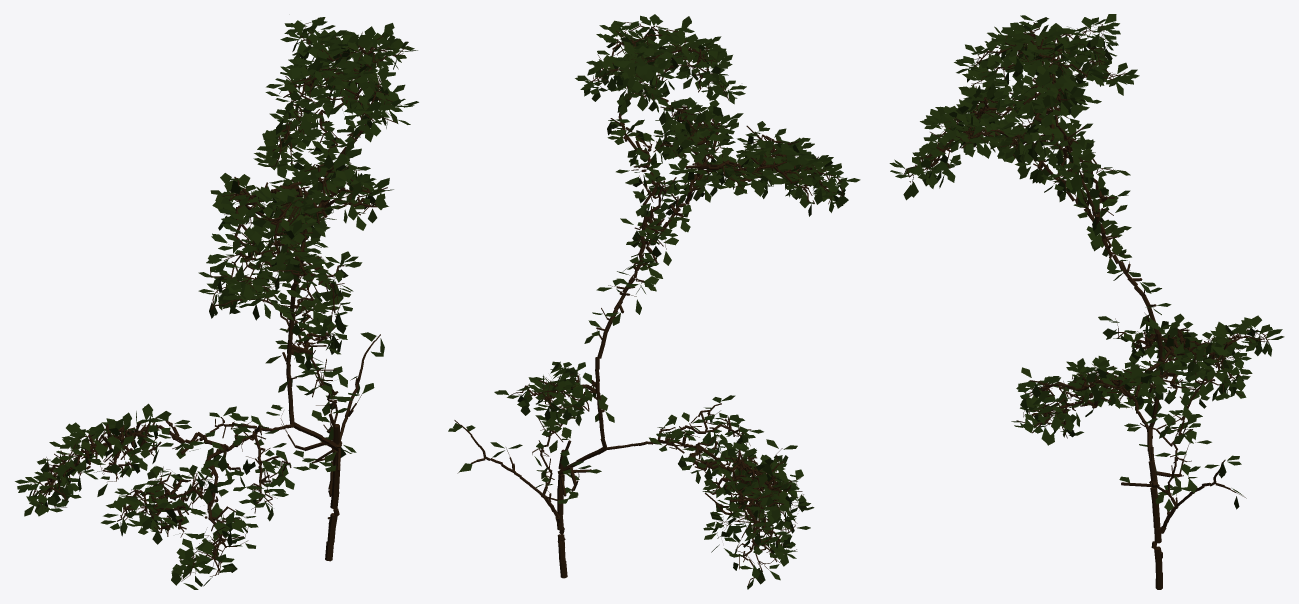
Rendered from tree_286.obj.
3 renders of one model, left to right at view 1: azimuth 30°, elevation 25°; view 2: azimuth 150°, elevation 25°; view 3: azimuth 270°, elevation 25°, orthographic. The views are drawn at different scales.
Parts seen in each view (by area): view 1: Leaves, TrunkAndBranches; view 2: Leaves, TrunkAndBranches; view 3: Leaves, TrunkAndBranches.
Boxes of the visible parts, bbox=[...] form: Leaves: bbox=[15, 17, 418, 589]; TrunkAndBranches: bbox=[30, 22, 404, 581]; Leaves: bbox=[448, 14, 860, 589]; TrunkAndBranches: bbox=[454, 22, 842, 585]; Leaves: bbox=[889, 14, 1284, 511]; TrunkAndBranches: bbox=[904, 21, 1269, 589].
Size of the model in its own units: 6.61 by 9.79 by 6.43.
